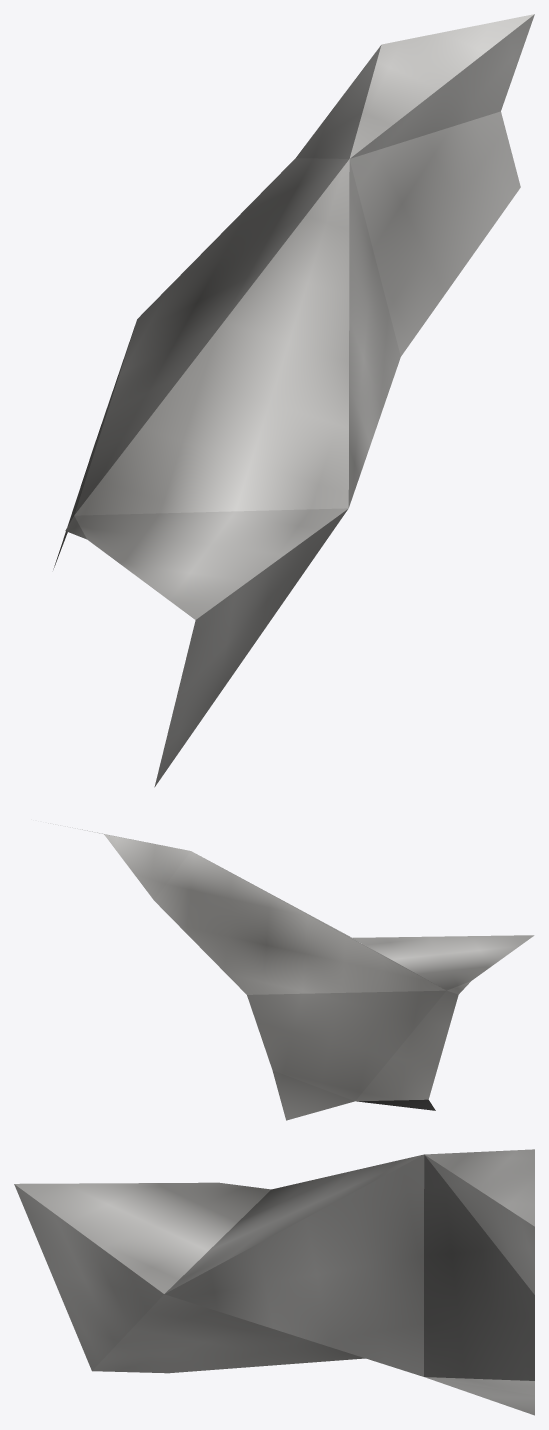
The picture shows the model from 3 angles, top to bottom: view 1: azimuth 30°, elevation 25°; view 2: azimuth 150°, elevation 25°; view 3: azimuth 270°, elevation 25°; orthographic projection. The views are drawn at different scales.
Size of the model in its own units: 0.0637 by 0.0457 by 0.0494.
Materials: 1 (1 with a texture image).
